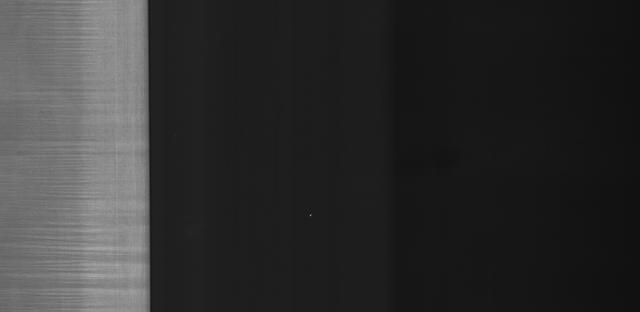waist_folding: (13, 16, 137, 303)
